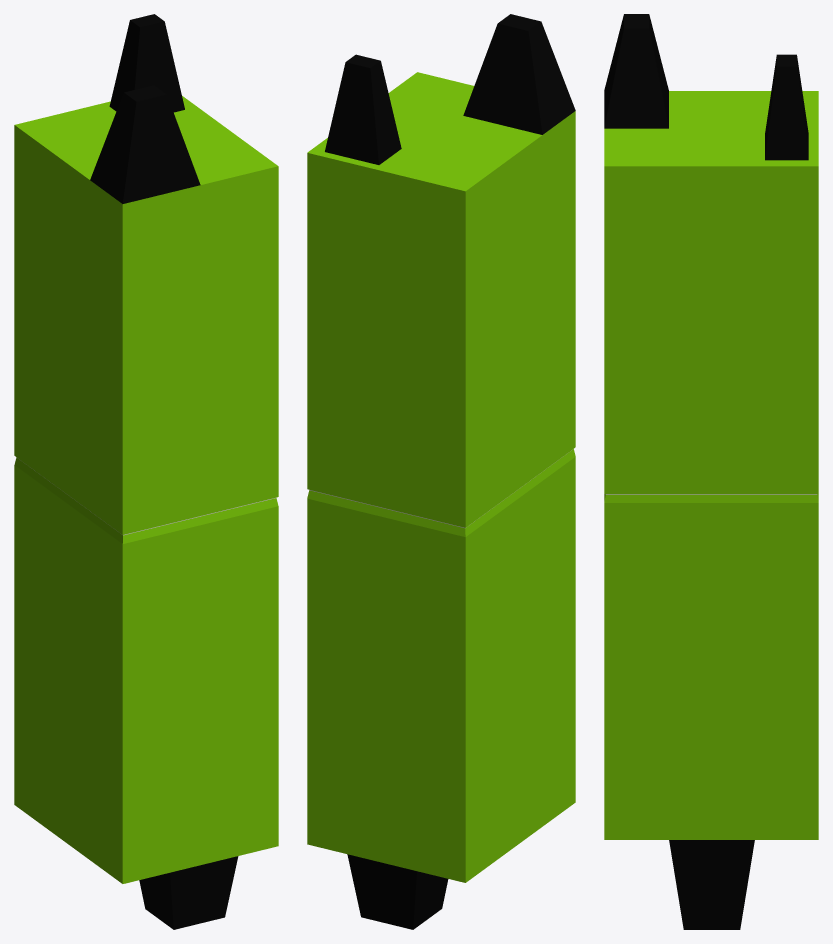
File: Fusible_3_fake.fbx
3 renders of one model, left to right at view 1: azimuth 30°, elevation 25°; view 2: azimuth 150°, elevation 25°; view 3: azimuth 270°, elevation 25°, orthographic. The views are drawn at different scales.
Parts seen in each view (by area): view 1: Fusible.008; view 2: Fusible.008; view 3: Fusible.008.
Part boxes in pixels (bbox=[...]): Fusible.008: bbox=[14, 14, 278, 929]; Fusible.008: bbox=[307, 14, 575, 929]; Fusible.008: bbox=[604, 14, 818, 929].
Size of the model in its own units: 47.93 by 255 by 57.74.
